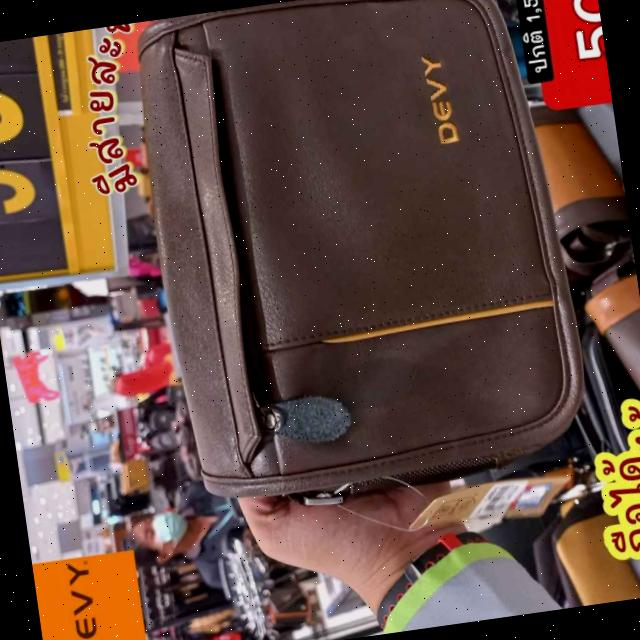handbag: (90, 0, 596, 527)
